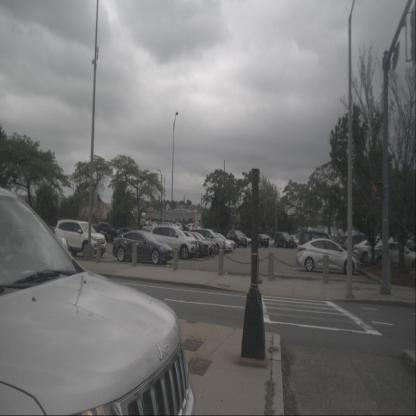vehicle-car: (0, 186, 196, 415), (296, 238, 362, 276), (53, 219, 106, 260), (113, 231, 173, 265), (148, 225, 198, 259), (298, 232, 351, 264), (368, 242, 416, 266), (170, 231, 209, 258), (353, 238, 394, 263), (188, 228, 227, 254), (179, 232, 214, 255), (197, 232, 232, 252), (344, 234, 375, 255), (206, 232, 235, 250), (226, 229, 248, 248), (116, 227, 137, 243), (274, 232, 294, 248), (231, 233, 252, 246), (284, 235, 302, 249), (253, 234, 269, 248), (260, 236, 276, 247), (142, 223, 156, 232), (185, 223, 196, 234), (178, 224, 190, 233), (173, 222, 182, 231)
vehicle-truck: (90, 222, 118, 241)
